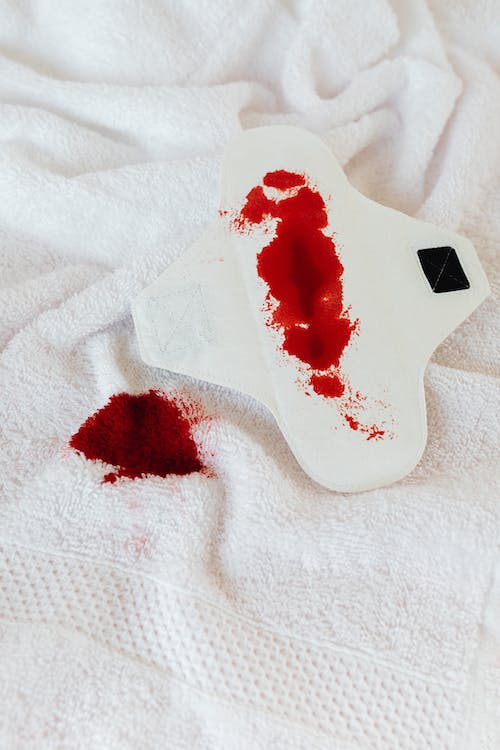blood: (216, 165, 401, 446), (66, 386, 220, 489)
